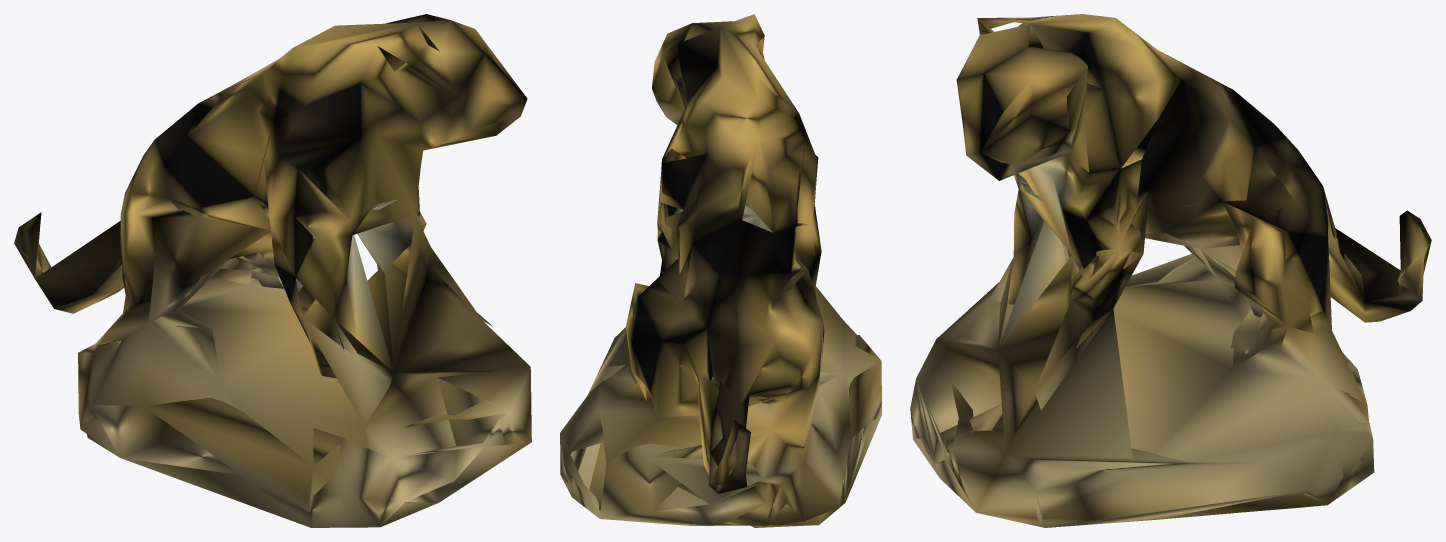
Rendered from gen3d-jaguar-statue-lod1.glb.
3 views of the same model, side by side, from view 1: azimuth 30°, elevation 25°; view 2: azimuth 150°, elevation 25°; view 3: azimuth 270°, elevation 25° (orthographic). The views are drawn at different scales.
Parts seen in each view (by area): view 1: part_0; view 2: part_0; view 3: part_0.
Boxes of the visible parts, x1=… form: part_0: x1=14, y1=14, x2=531, y2=527; part_0: x1=560, y1=14, x2=881, y2=527; part_0: x1=910, y1=14, x2=1431, y2=527.
Bounding box in the file's own units: 0.7852 × 0.9925 × 0.967.
